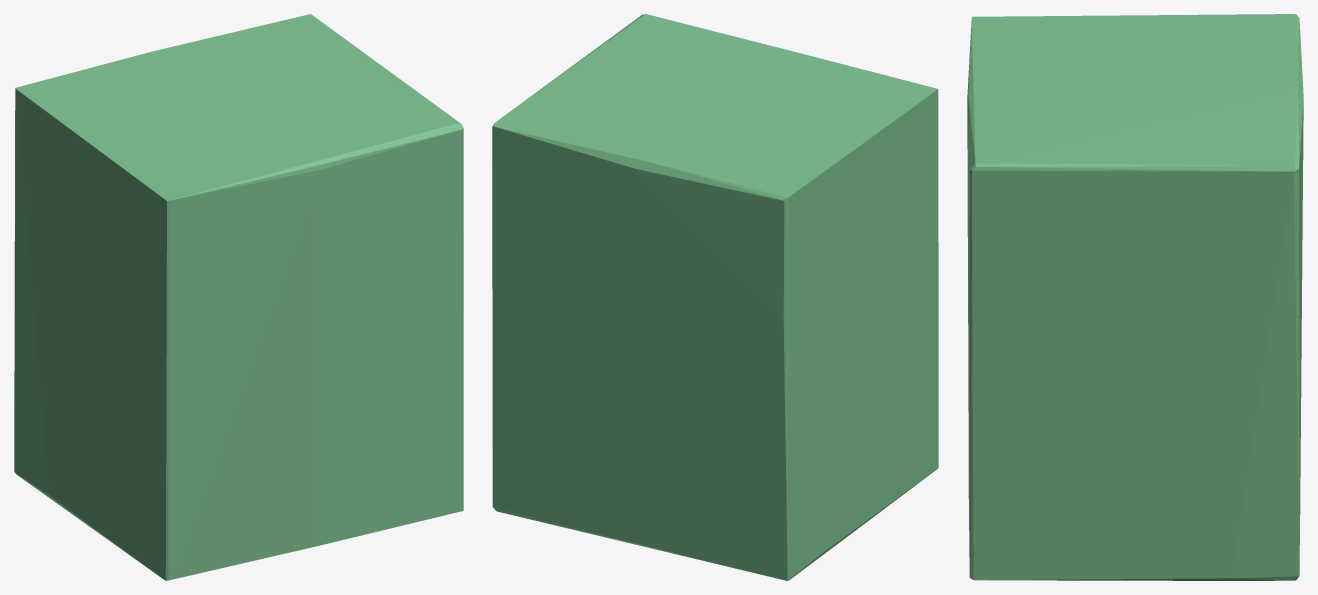
The model's file is box_printer_brown_b04.glb.
3 renders of one model, left to right at view 1: azimuth 30°, elevation 25°; view 2: azimuth 150°, elevation 25°; view 3: azimuth 270°, elevation 25°, orthographic. The views are drawn at different scales.
Visible parts, largest first — view 1: geometry_0; view 2: geometry_0; view 3: geometry_0.
Boxes of the visible parts, bbox=[...] form: geometry_0: bbox=[14, 14, 463, 580]; geometry_0: bbox=[492, 14, 938, 580]; geometry_0: bbox=[967, 14, 1303, 580].
Bounding box in the file's own units: 0.3844 × 0.4792 × 0.3504.
